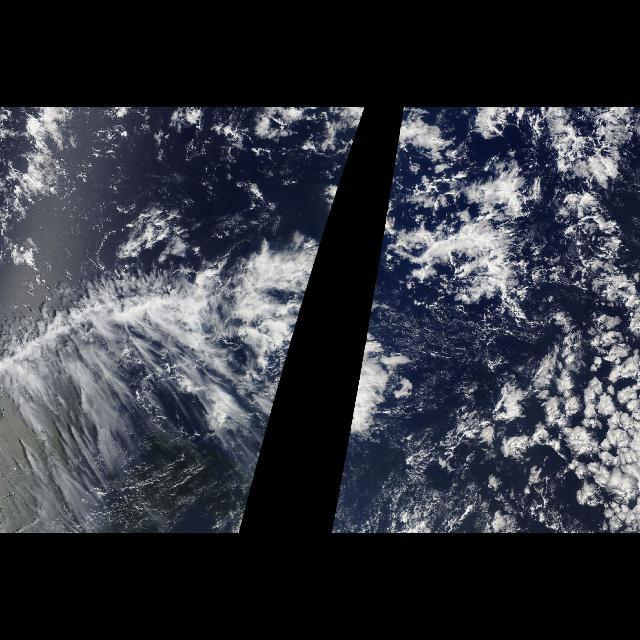Fish: (4, 252, 206, 358)
Flower: (384, 107, 640, 531)
